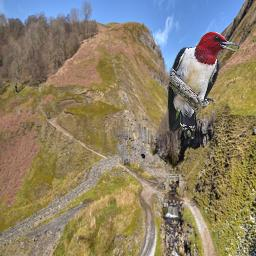Woodpecker: (165, 32, 242, 139)
